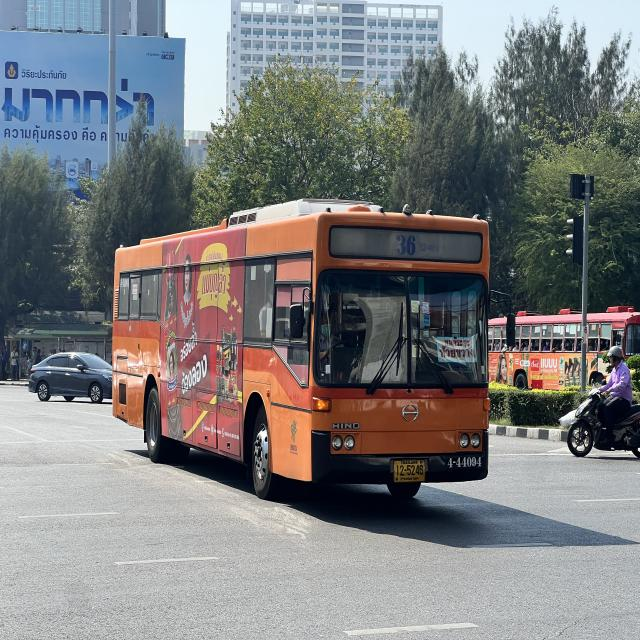BMTA-bus: (111, 201, 492, 503)
Bus-Line-Number: (392, 232, 441, 258)
Destination-Sign-Extra-Bus: (436, 335, 478, 364)
